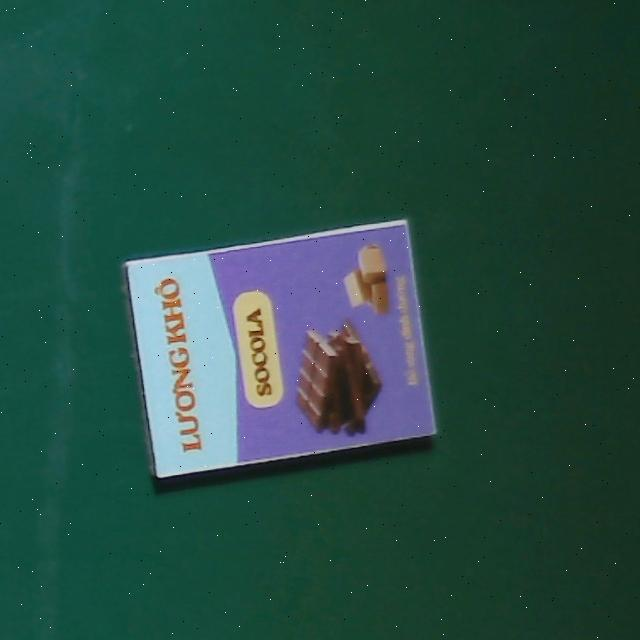socola: (119, 219, 439, 482)
